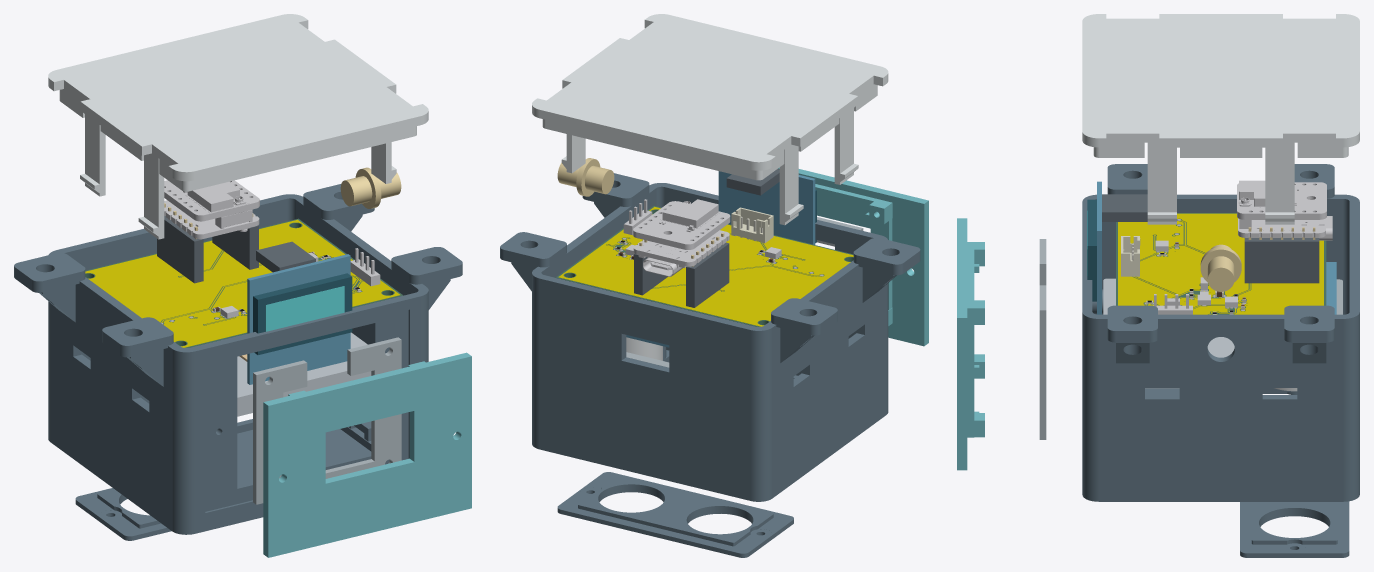
File: exploded_oled.glb
3 renders of one model, left to right at view 1: azimuth 30°, elevation 25°; view 2: azimuth 150°, elevation 25°; view 3: azimuth 270°, elevation 25°, orthographic. The views are drawn at different scales.
Visible parts, largest first — view 1: exploded_oled (×13); view 2: exploded_oled (×11); view 3: exploded_oled (×13).
Boxes of the visible parts, bbox=[...] form: exploded_oled (×13): bbox=[14, 14, 471, 557]; exploded_oled (×11): bbox=[500, 14, 928, 557]; exploded_oled (×13): bbox=[957, 14, 1359, 557].
Size of the model in its own units: 0.094 by 0.1134 by 0.0958.
